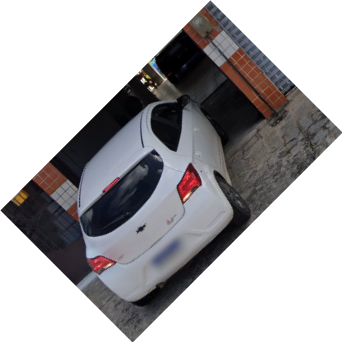car: (73, 94, 251, 307)
